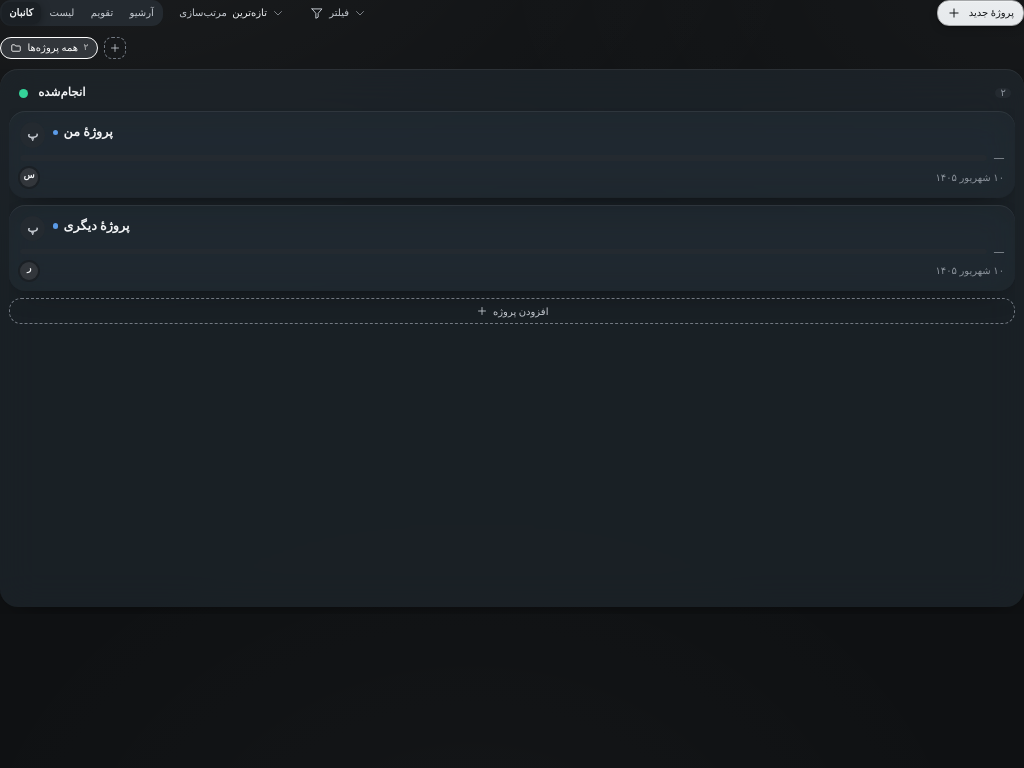
it: Projects › «مال من» shows NOTHING while the identity is unknown — never everything
Check: the heading "پروژهٔ من" is shown, box [64,122,113,142]
Click the button "فیلتر" at (338, 13), box [301,0,376,26]
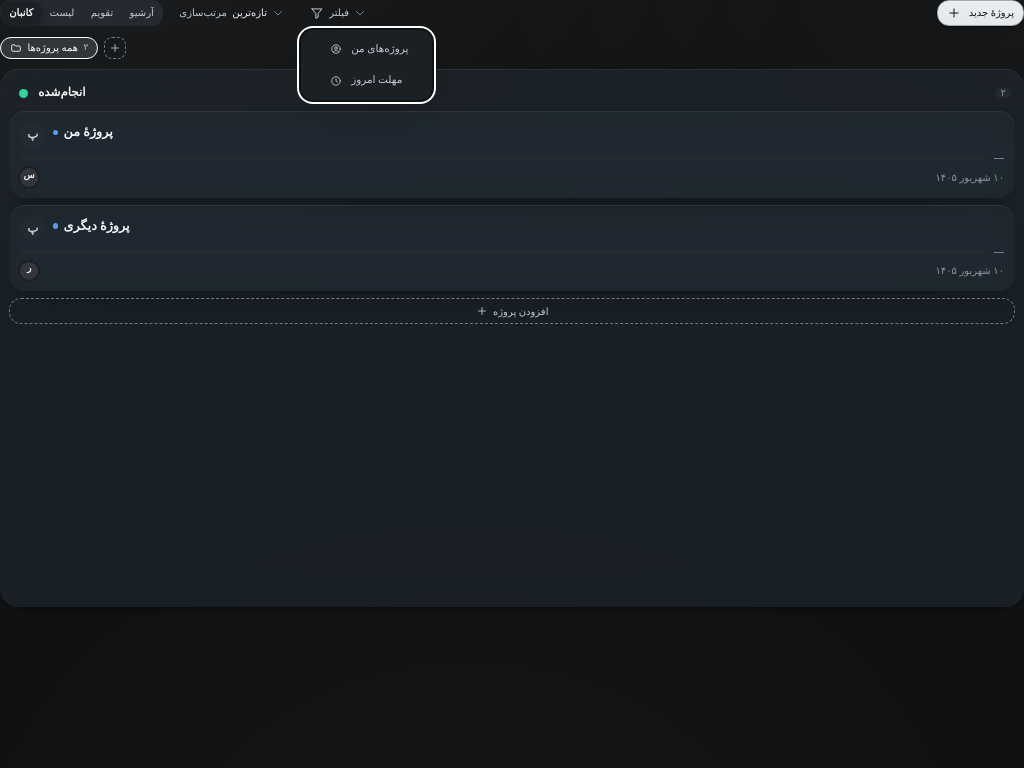
Click the menu item "پروژه‌های من" at (369, 49), box [330,43,408,55]
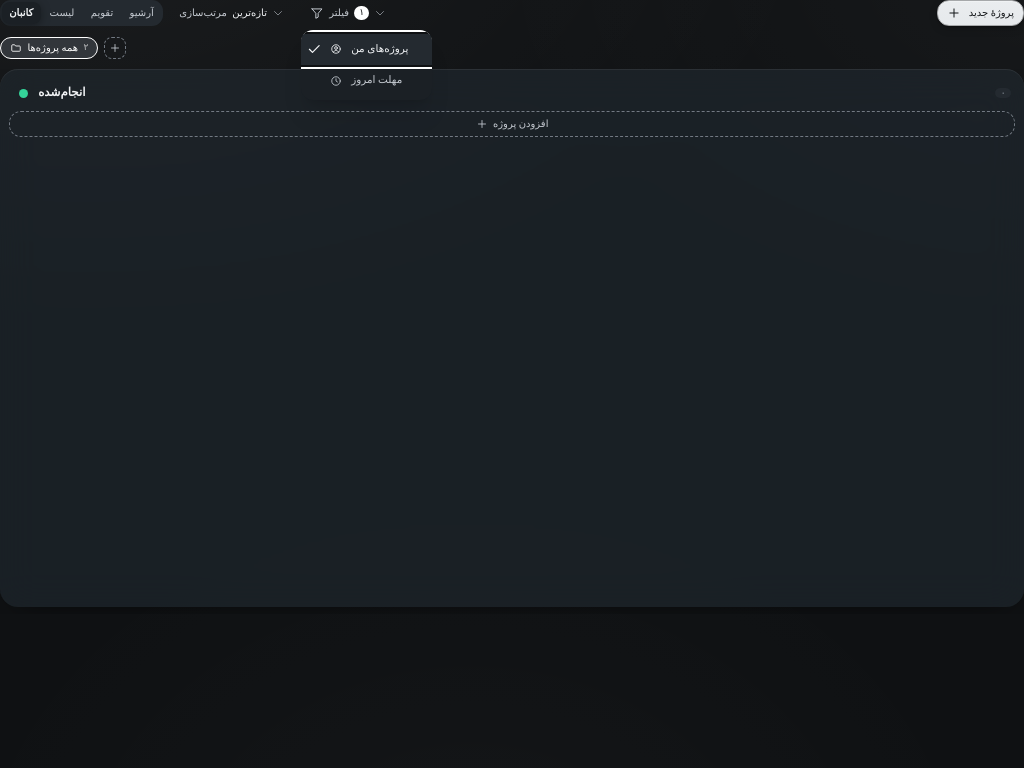
Check: the link "پروژهٔ من" is gone
Check: the link "پروژهٔ دیگری" is gone
Click the button "لیست" at (62, 13), box [42,2,82,24]
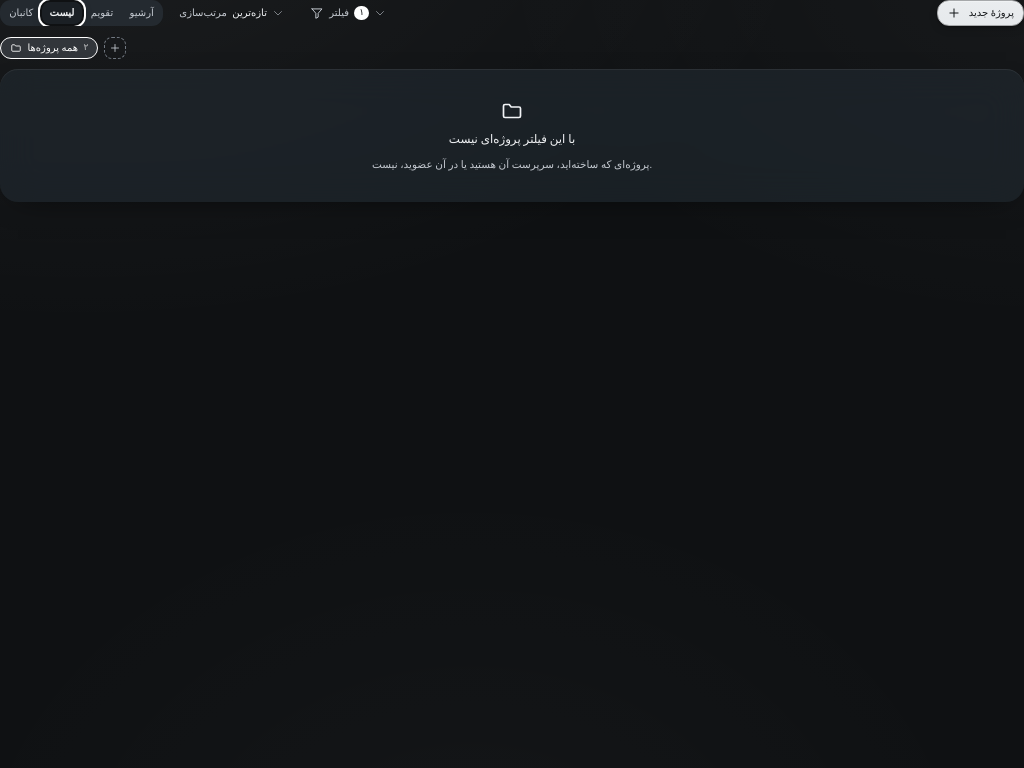
Check: the text "با این فیلتر پروژه‌ای نیست" is shown, box [449,130,575,149]
